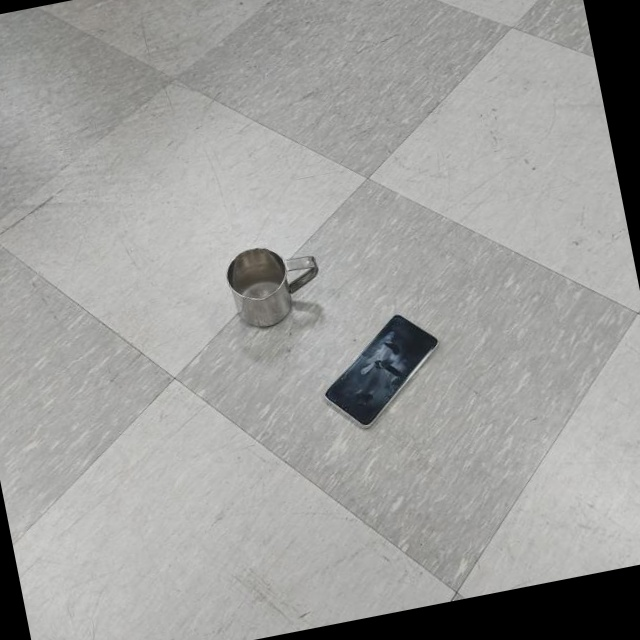cup: (220, 236, 327, 334)
phone: (311, 306, 453, 434)
